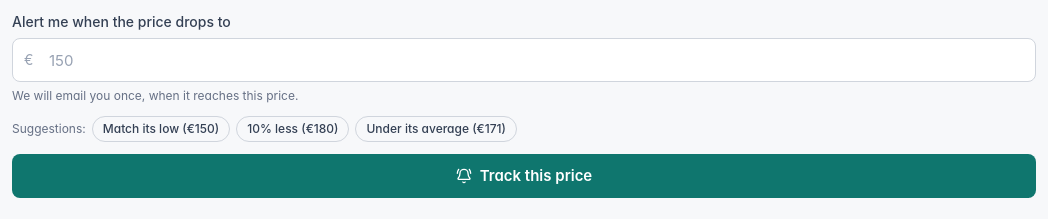
TargetPriceForm › rejects non-numeric input
This screenshot has width=1048, height=219.
Step 1. Type "cheap please" into the field labelled "Alert me when the price drops to" → (524, 60), box [12, 38, 1036, 82]
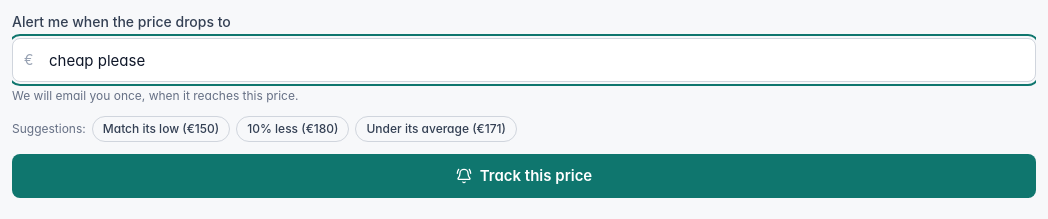
Step 2. Click the button "Track this price" → (524, 176), box [12, 154, 1036, 198]
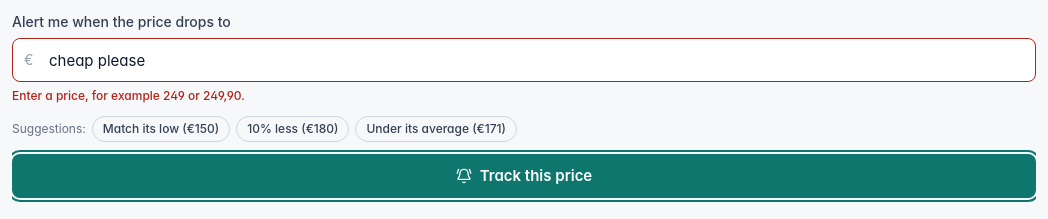
Check: the message "Enter a price, for example 249 or 249,90." is shown, box [12, 88, 245, 103]
